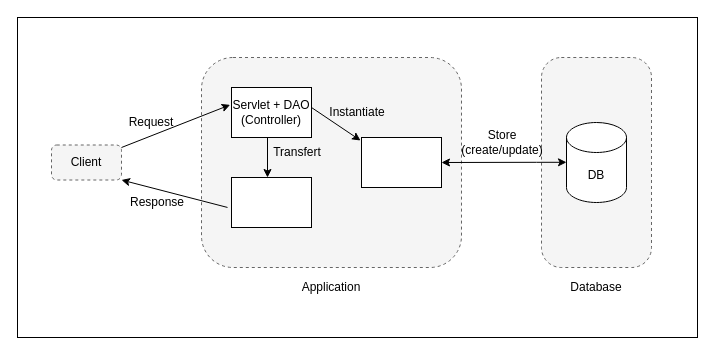
This 715x355 diagram has some shape labels left out. Here are the shapes that lost their labels. From the top down, the centre of each, then its label:
At pixel 401 162: "Bean (Model)".
At pixel 271 202: "JSP (View)".
